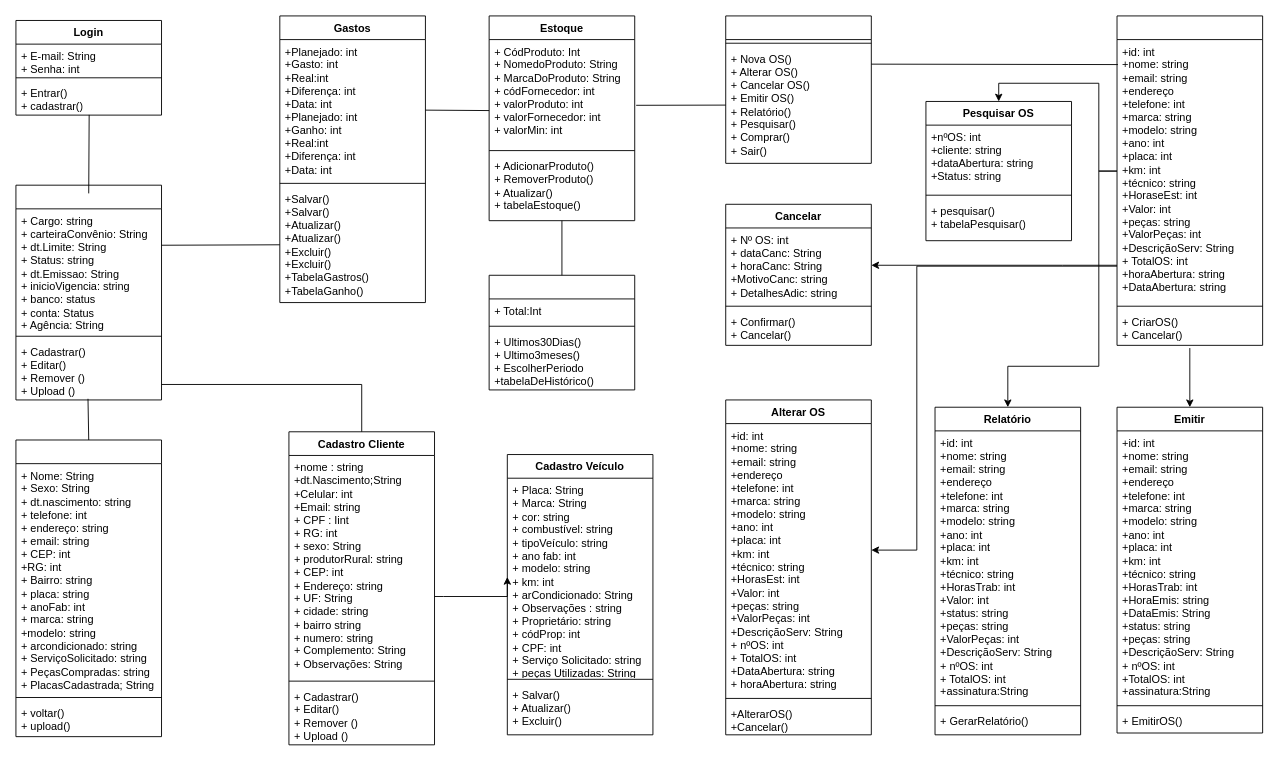
This 1279x763 diagram has some shape labels left out. The shapes that lost their labels are listed below. From the top down, each one's box as (x1, y1, x2, y2) in pixels, then its label:
(725, 15, 871, 163): Serviços
(1116, 15, 1263, 345): Nova
(15, 184, 162, 400): Cadastro Funcionário
(488, 274, 635, 390): Histórico De Vendas
(15, 439, 162, 737): Perfil
